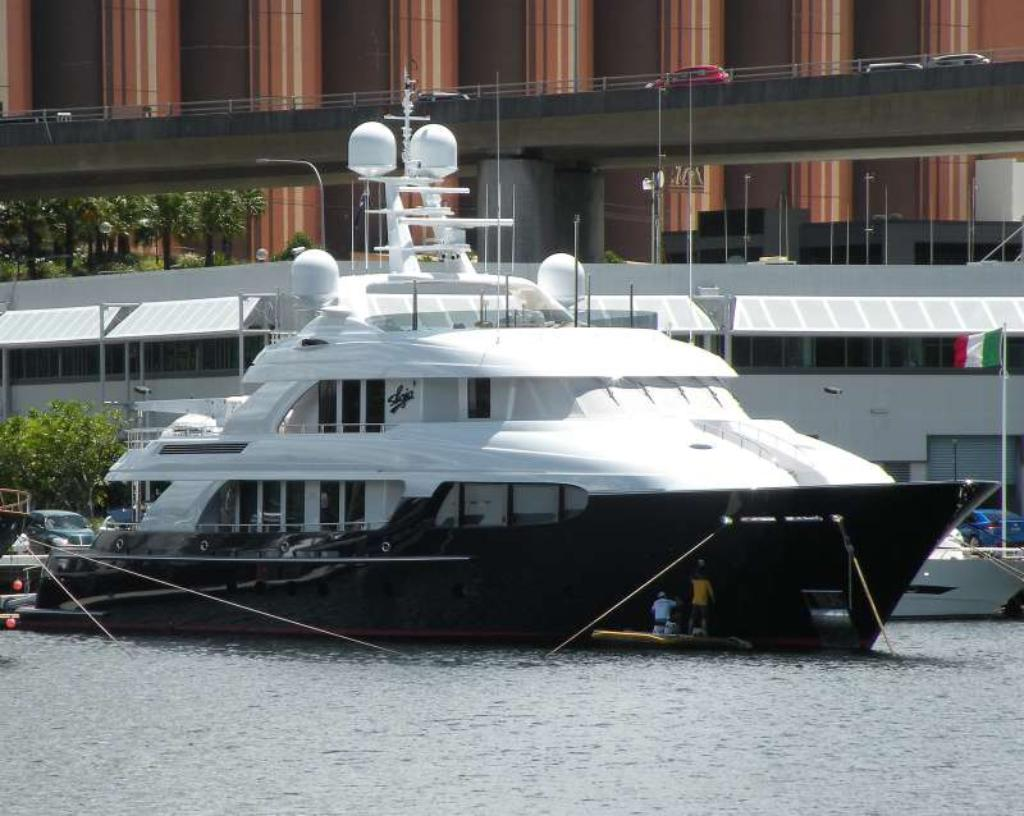PassengerShip: (16, 74, 1000, 660)
